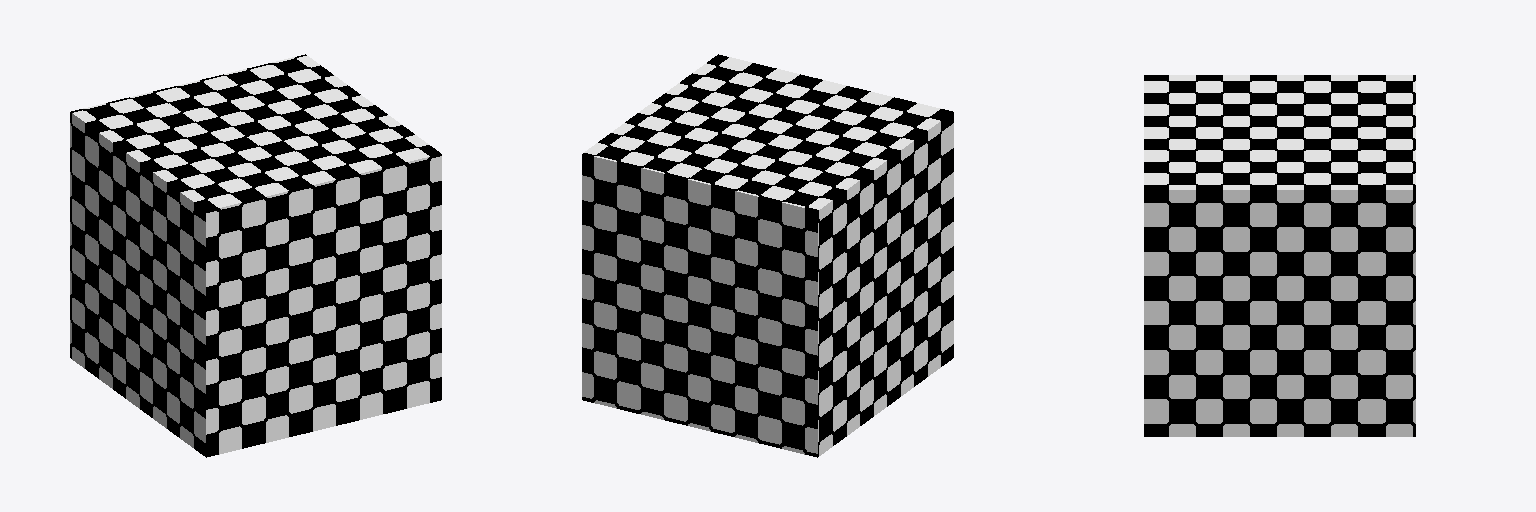
3 views of the same model, side by side, from view 1: azimuth 30°, elevation 25°; view 2: azimuth 150°, elevation 25°; view 3: azimuth 270°, elevation 25° (orthographic).
Visible parts, largest first — view 1: Cube; view 2: Cube; view 3: Cube.
Part boxes in pixels (bbox=[...]): Cube: bbox=[70, 54, 441, 457]; Cube: bbox=[582, 54, 953, 457]; Cube: bbox=[1144, 75, 1415, 436].
Size of the model in its own units: 2 by 2 by 2.
Materials: 1 (1 with a texture image).